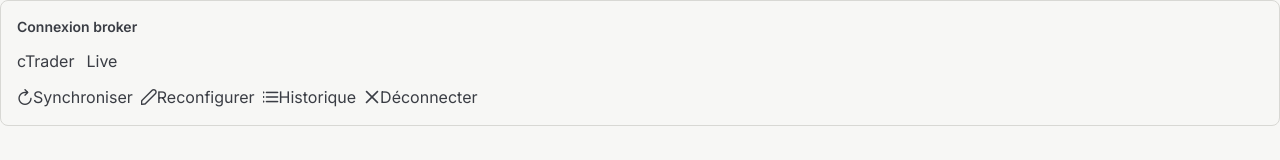
Test: BrokerConnectionPanel › non-blocking sync › shows the run is pending while the scheduler has not picked it up
Click the button "Synchroniser": (75,97) [17,85,133,109]
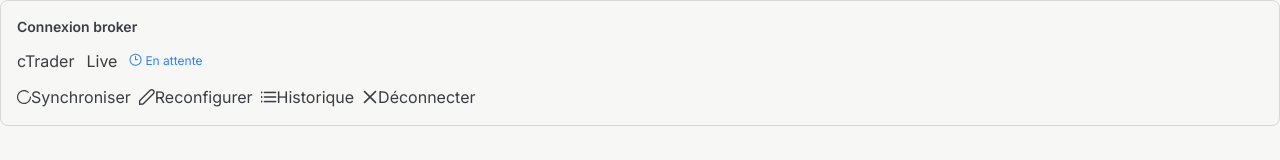
Expected: the text "En attente" is shown, [129,53,202,69]
